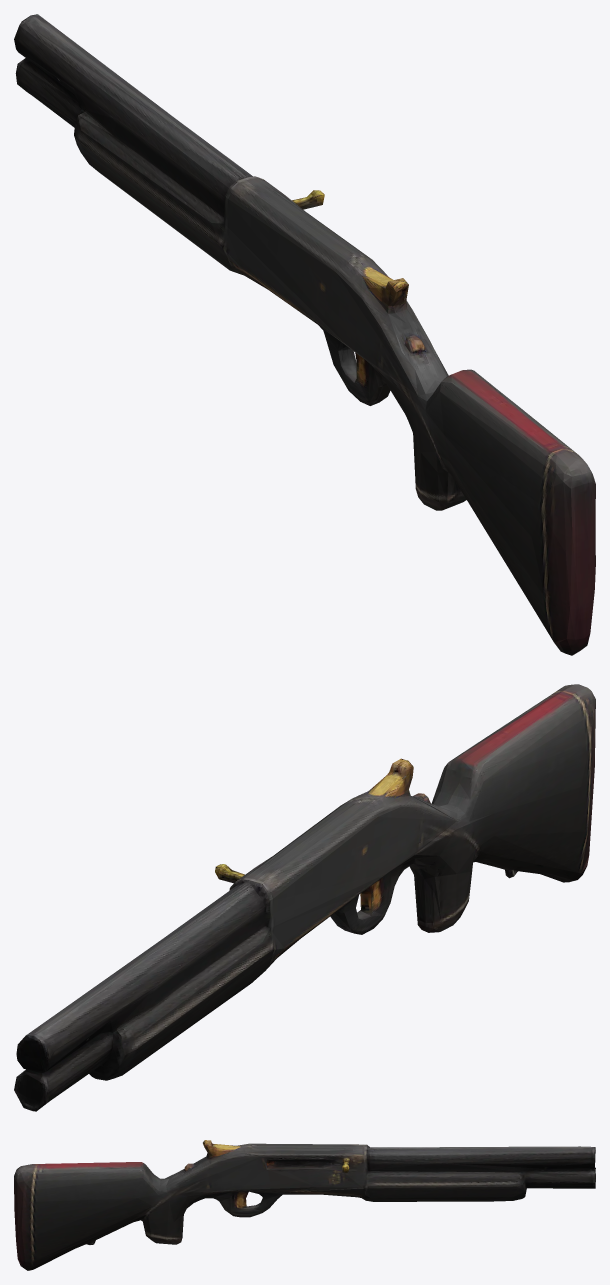
File: black_shotgun.glb
The picture shows the model from 3 angles, top to bottom: view 1: azimuth 30°, elevation 25°; view 2: azimuth 150°, elevation 25°; view 3: azimuth 270°, elevation 25°; orthographic projection. The views are drawn at different scales.
Visible parts, largest first — view 1: geometry_0.003; view 2: geometry_0.003; view 3: geometry_0.003.
Boxes of the visible parts, left/top/right/bottom form: geometry_0.003: left=14, top=14, right=595, bottom=655; geometry_0.003: left=14, top=684, right=595, bottom=1111; geometry_0.003: left=14, top=1140, right=595, bottom=1270.
Size of the model in its own units: 0.0673 by 0.1964 by 0.7993.
1 material, 1 textured.
